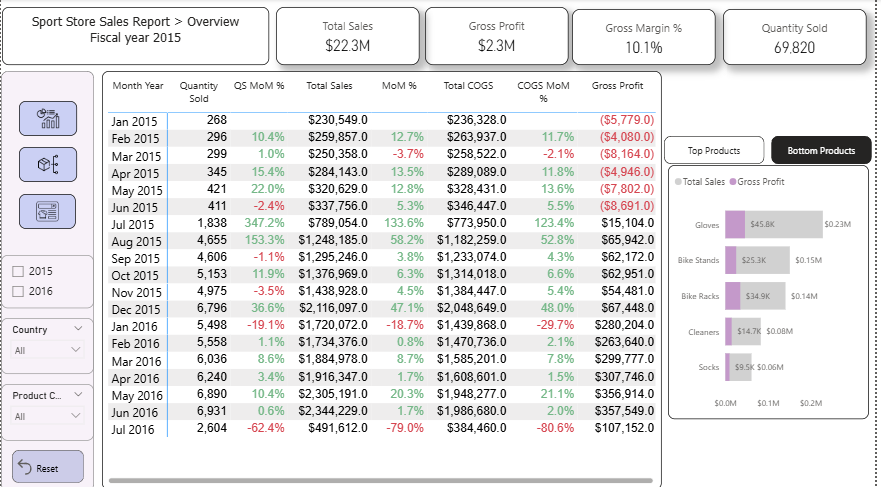

Layout of this report page (visuals, bound fields, positions):
{"tool":"powerbi","page":{"name":"Details","canvas":[1280,720],"ordinal":2},"visuals":[{"type":"shape","box":[0,105.4,136.1,614.6],"z":1000},{"type":"cardVisual","fields":{"Data":["Metric.Total Quantity"]},"box":[1056.6,14.6,210,82],"z":2000},{"type":"cardVisual","fields":{"Data":["Metric.Gross Profit"]},"box":[620.5,11.7,210,84.9],"z":3000},{"type":"cardVisual","fields":{"Data":["Metric.GROSS Margin %"]},"box":[835.6,14.6,210,82],"z":4000},{"type":"cardVisual","fields":{"Data":["Metric.Total Sales"]},"box":[402.4,11.7,210,84.9],"z":5000},{"type":"slicer","fields":{"Values":["Calendar.Year"]},"box":[0,374.6,136.1,77.6],"z":6000},{"type":"slicer","fields":{"Values":["factsales.Product Category"]},"box":[0,563.4,136.1,83.4],"z":7000},{"type":"slicer","fields":{"Values":["factsales.Country"]},"box":[0,466.8,136.1,82],"z":8000},{"type":"actionButton","box":[16.1,660,105.4,48.3],"z":10000},{"type":"image","box":[26.3,149.3,84.9,51.2],"z":12000},{"type":"image","box":[26.3,216.6,84.9,51],"z":13000},{"type":"image","box":[26.3,285.4,83.4,51.2],"z":14000},{"type":"pivotTable","fields":{"Values":["Metric.Quantity Sold","Metric.QS MoM %","Metric.Total Sales","Metric.MoM %","Metric.Total COGS","Metric.COGS MoM %","Metric.Gross Profit"],"Rows":["Calendar.Month Year"]},"box":[147.8,106,819.4,613.4],"z":15000},{"type":"clusteredBarChart","title":"Top 5 Products","fields":{"Category":["factsales.Sub Category"],"Y":["Metric.Total Sales","Metric.Gross Profit"]},"box":[976.1,242.9,294.1,371.7],"z":16000},{"type":"textbox","box":[1.5,11.7,390.7,84.9],"z":16001},{"type":"bookmarkNavigator","box":[970.7,199.9,304.2,41],"z":16002}]}

Visuals, with their boxes in screenshot pixels (x1, y1, x2, y2), scaled from the page's 1280x720 canvas onto the 881x487 screenshot:
shape: left=0, top=71, right=94, bottom=486
cardVisual - Metric.Total Quantity: left=727, top=10, right=872, bottom=65
cardVisual - Metric.Gross Profit: left=427, top=8, right=572, bottom=65
cardVisual - Metric.GROSS Margin %: left=575, top=10, right=720, bottom=65
cardVisual - Metric.Total Sales: left=277, top=8, right=422, bottom=65
slicer - Calendar.Year: left=0, top=253, right=94, bottom=306
slicer - factsales.Product Category: left=0, top=381, right=94, bottom=437
slicer - factsales.Country: left=0, top=316, right=94, bottom=371
actionButton: left=11, top=446, right=84, bottom=479
image: left=18, top=101, right=77, bottom=136
image: left=18, top=147, right=77, bottom=181
image: left=18, top=193, right=76, bottom=228
pivotTable - Metric.Quantity Sold x Metric.QS MoM %: left=102, top=72, right=666, bottom=486
"Top 5 Products" clusteredBarChart: left=672, top=164, right=874, bottom=416
textbox: left=1, top=8, right=270, bottom=65
bookmarkNavigator: left=668, top=135, right=877, bottom=163
